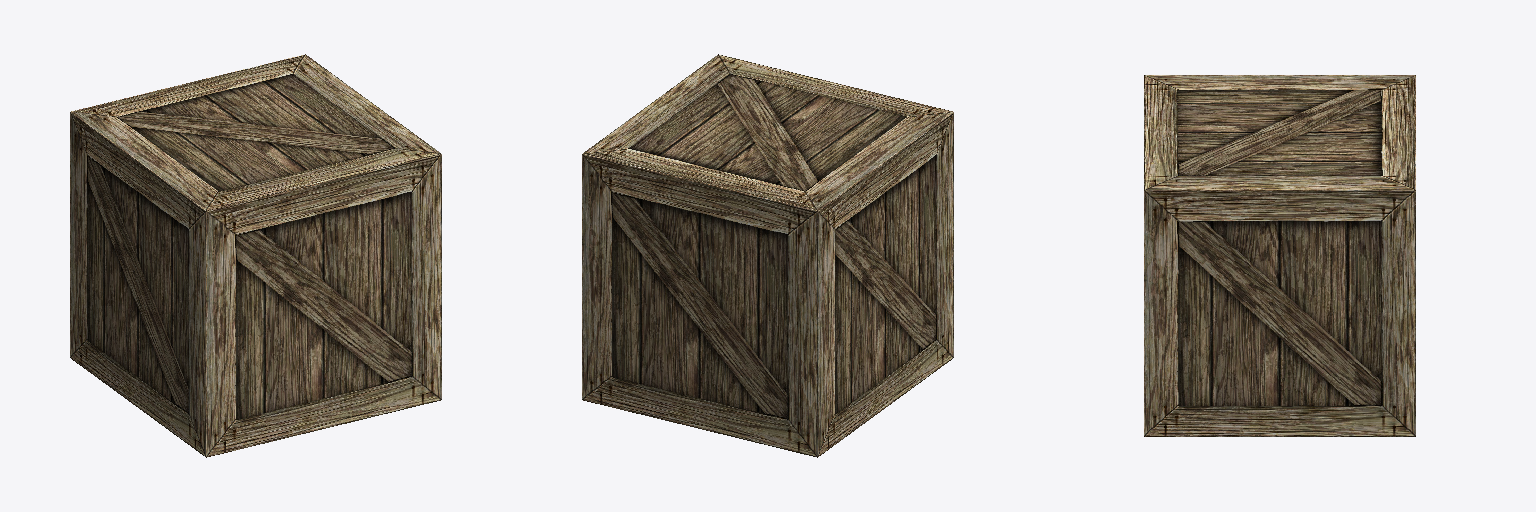
The picture shows the model from 3 angles: view 1: azimuth 30°, elevation 25°; view 2: azimuth 150°, elevation 25°; view 3: azimuth 270°, elevation 25°; orthographic projection.
Visible parts, largest first — view 1: Box01; view 2: Box01; view 3: Box01.
Part boxes in pixels (left/top/right/bottom): Box01: left=70, top=54, right=441, bottom=457; Box01: left=582, top=54, right=953, bottom=457; Box01: left=1144, top=75, right=1415, bottom=436.
Size of the model in its own units: 1 by 1 by 1.
1 materials, 1 textured.